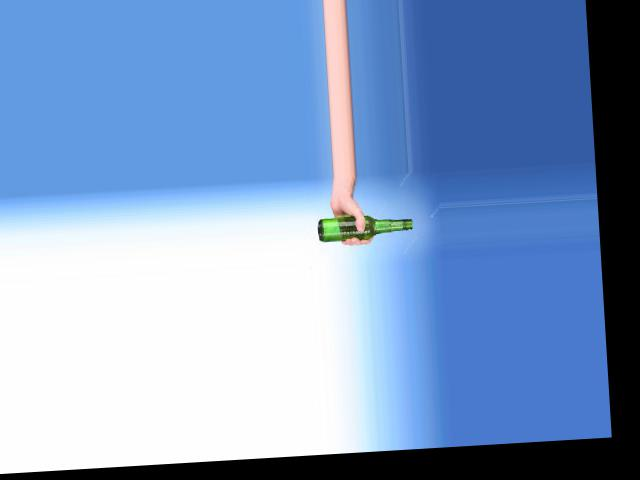beer: (317, 213, 413, 241)
